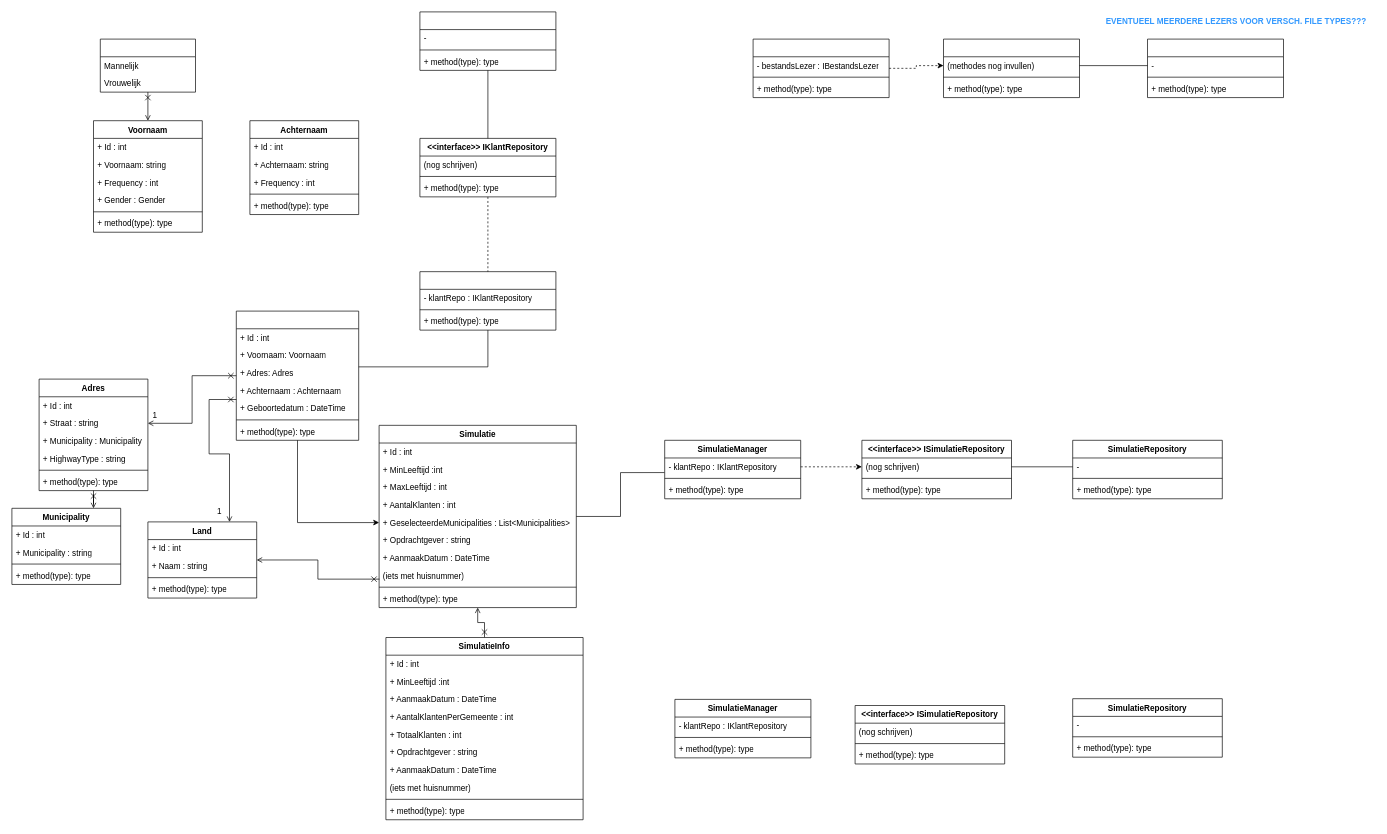
This 1387x834 diagram has some shape labels left out. Each missing label, with the box of its shape:
<<enum>> Gender: (100, 38, 196, 92)
<<interface>> IBestandsLezer: (943, 38, 1080, 98)
BestandsLezer: (1147, 38, 1284, 98)
BestandsManager: (752, 38, 889, 98)
Klant: (236, 310, 359, 440)
KlantManager: (419, 271, 556, 330)
KlantRepository: (419, 11, 556, 70)
